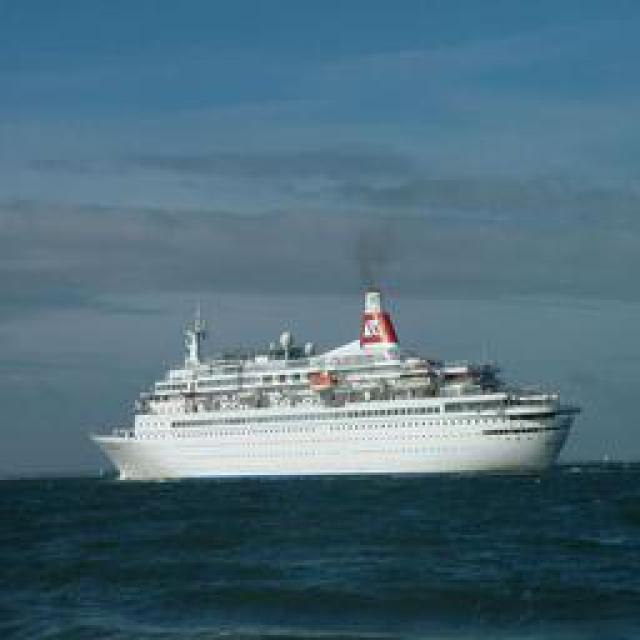Ship: (92, 286, 582, 486)
